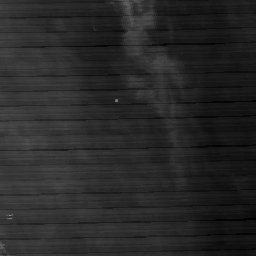Target: (113, 97, 119, 104)
